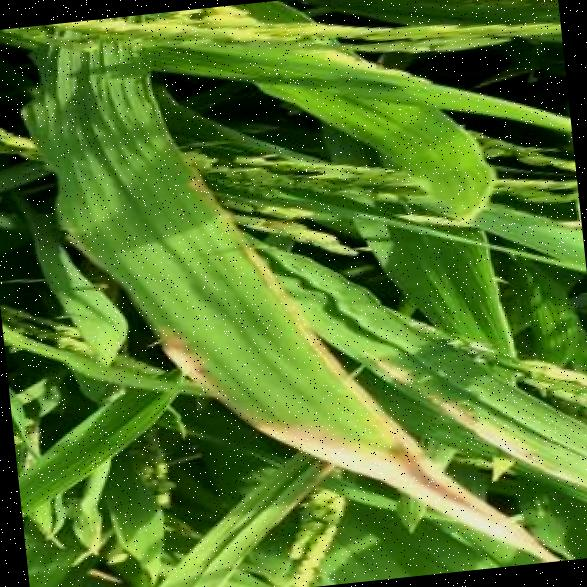Bacteria_Leaf_Blight: (148, 166, 300, 450)
